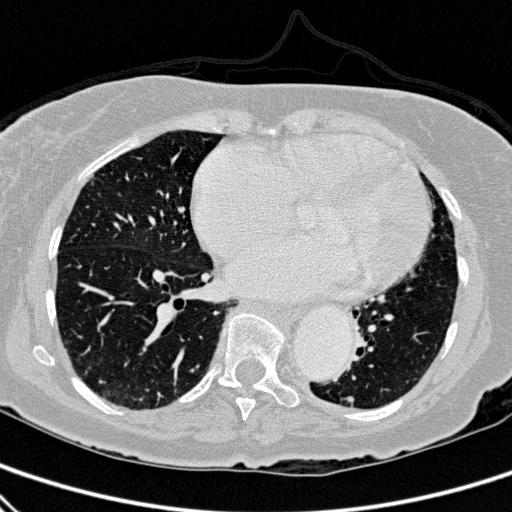nodule: (345, 394, 356, 405)
